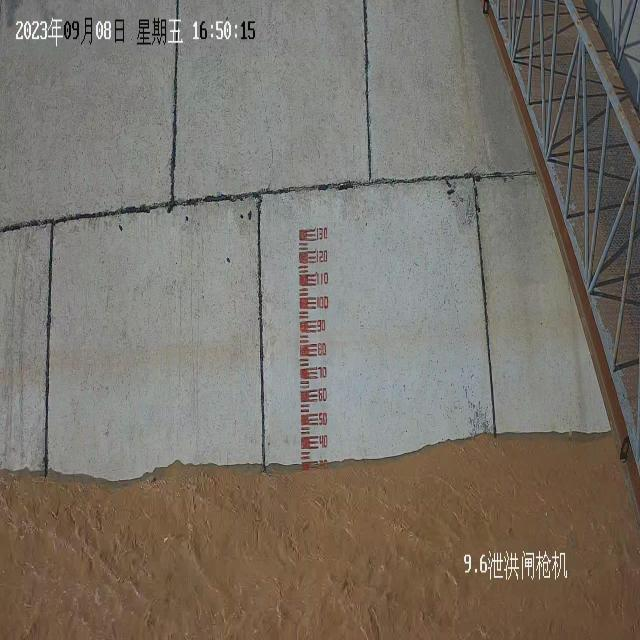ruler: (296, 221, 331, 459)
value: (315, 292, 330, 312), (315, 223, 329, 243), (315, 247, 329, 266), (316, 314, 328, 335), (316, 339, 328, 359), (316, 270, 329, 287), (317, 386, 329, 404), (318, 410, 329, 428), (318, 432, 329, 450), (317, 364, 328, 380)
